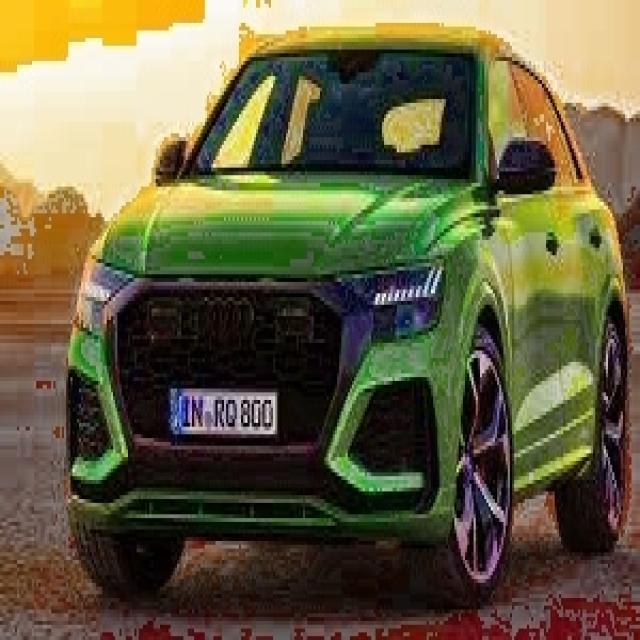green: (58, 40, 625, 604)
